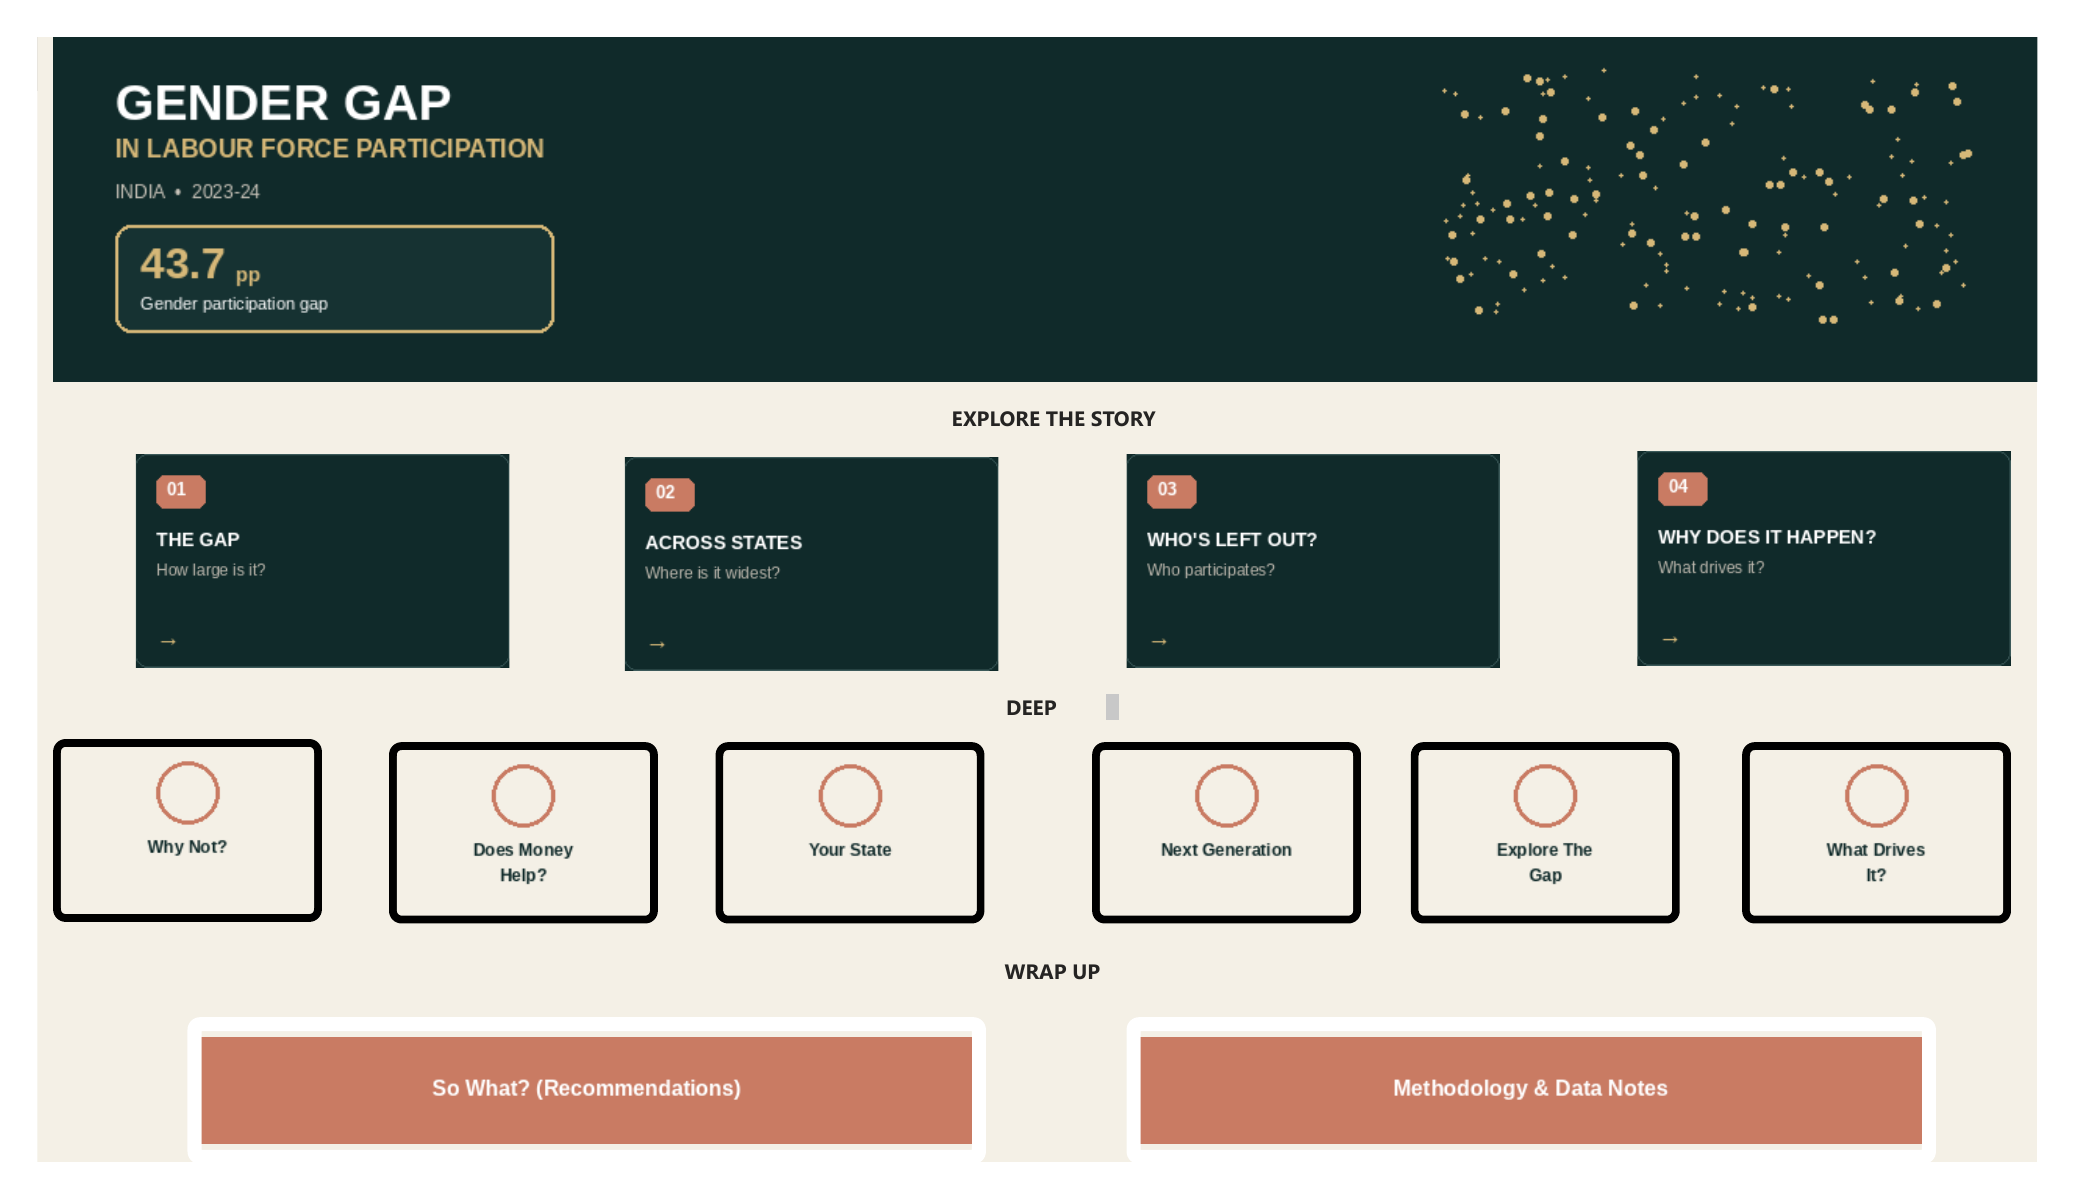

The page's visual inventory and layout, read from the dashboard file:
{"tool":"powerbi","page":{"name":"Home","canvas":[1280,720],"ordinal":0},"visuals":[{"type":"image","box":[10,0,1270,220],"z":0},{"type":"image","box":[62.6,254.6,239.3,160],"z":1000},{"type":"image","box":[375.7,257.4,239.3,160],"z":2000},{"type":"image","box":[697,254.6,239.3,160],"z":3000},{"type":"image","box":[1024,257.4,239.3,153],"z":4000},{"type":"image","box":[9.7,449.4,172.5,116.9],"z":5000},{"type":"image","box":[96,627.5,510.6,93.2],"z":6000},{"type":"image","box":[697,627.5,517.6,93.2],"z":7000},{"type":"textbox","box":[580.2,229.6,148.9,27.8],"z":8000},{"type":"textbox","box":[615,414.6,82.1,27.8],"z":9000},{"type":"textbox","box":[613.6,584.3,83.5,33.4],"z":10000},{"type":"image","box":[225.4,450.8,172,116],"z":11000},{"type":"image","box":[434.1,450.8,172,116],"z":12000},{"type":"image","box":[674.8,450.8,172,116],"z":13000},{"type":"image","box":[879.3,450.8,172,116],"z":14000},{"type":"image","box":[1090.8,450.8,172,116],"z":15000}]}

Visuals, with their boxes on the page's 1280x720 design canvas (x1, y1, x2, y2). These are canvas units, not pixel positions in the 2075x1200 screenshot, which may show the page scaled, cropped or inside an application window:
image: Rect(10, 0, 1280, 220)
image: Rect(63, 255, 302, 415)
image: Rect(376, 257, 615, 417)
image: Rect(697, 255, 936, 415)
image: Rect(1024, 257, 1263, 410)
image: Rect(10, 449, 182, 566)
image: Rect(96, 628, 607, 721)
image: Rect(697, 628, 1215, 721)
textbox: Rect(580, 230, 729, 257)
textbox: Rect(615, 415, 697, 442)
textbox: Rect(614, 584, 697, 618)
image: Rect(225, 451, 397, 567)
image: Rect(434, 451, 606, 567)
image: Rect(675, 451, 847, 567)
image: Rect(879, 451, 1051, 567)
image: Rect(1091, 451, 1263, 567)
